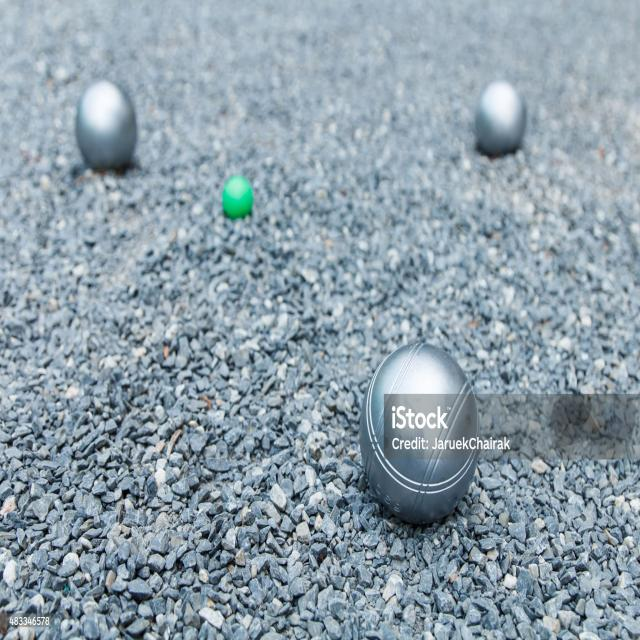hatball: (218, 169, 260, 228)
petanque: (348, 333, 490, 538), (68, 76, 144, 185), (467, 72, 530, 158)
